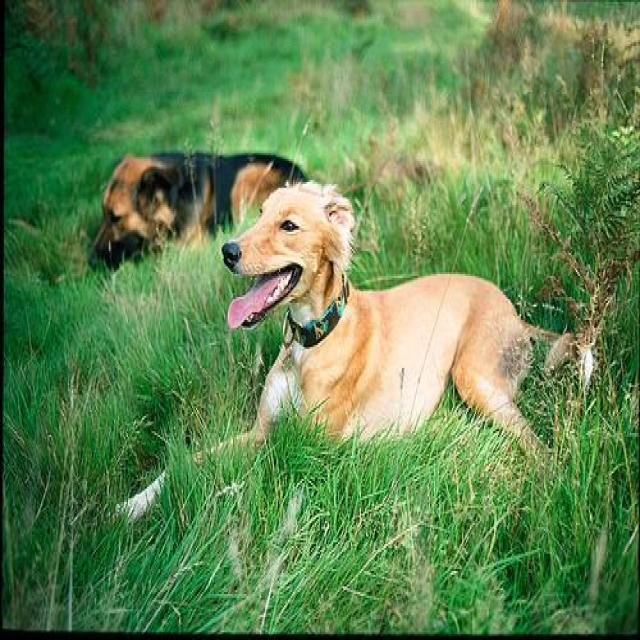saluki: (112, 174, 616, 529)
